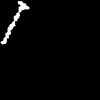half_double_crochet: (1, 1, 28, 43)
